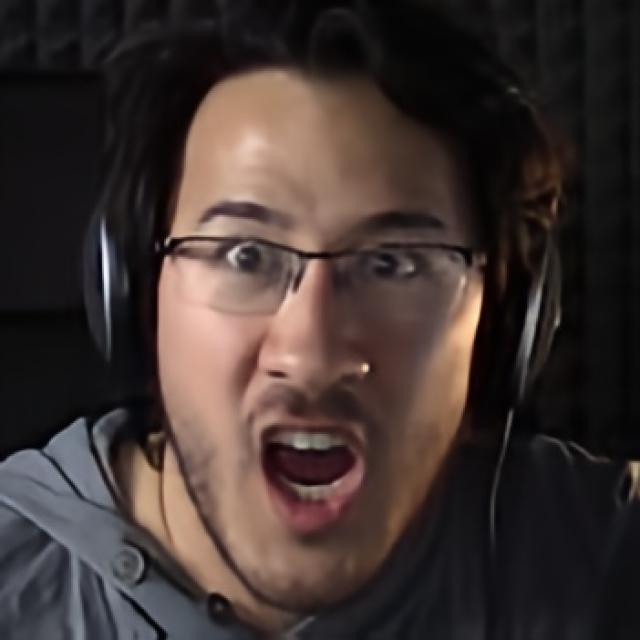fear: (153, 61, 485, 614)
